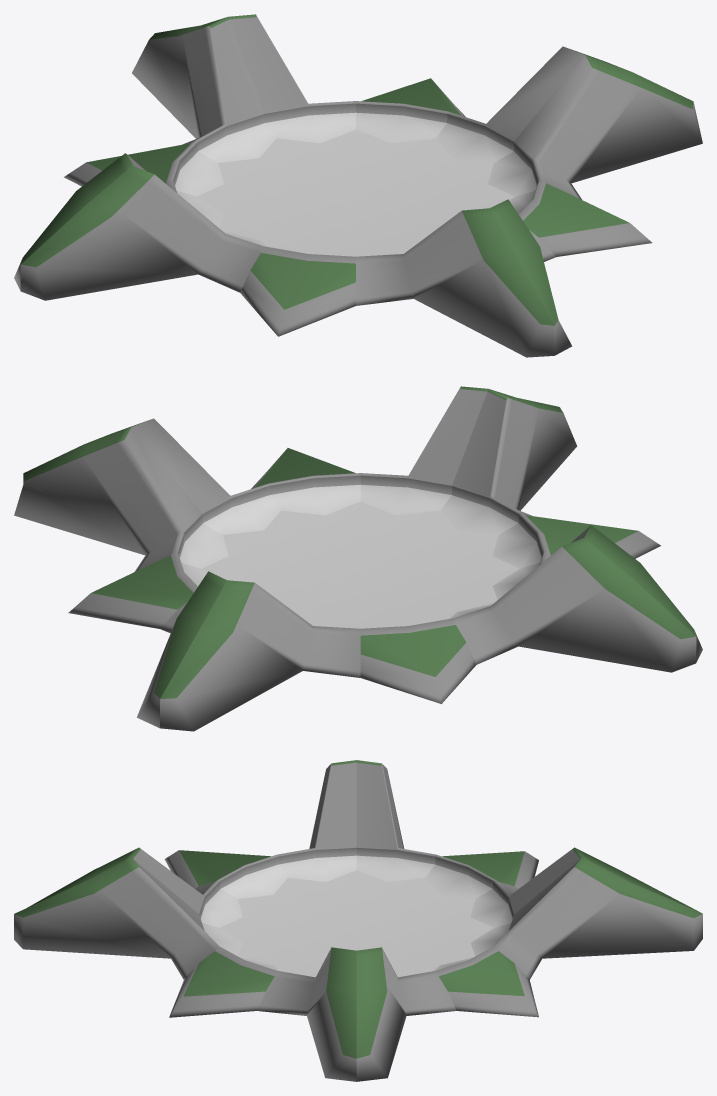
The model's file is MapPoint 1.fbx.
The picture shows the model from 3 angles, top to bottom: view 1: azimuth 30°, elevation 25°; view 2: azimuth 150°, elevation 25°; view 3: azimuth 270°, elevation 25°; orthographic projection. The views are drawn at different scales.
Parts seen in each view (by area): view 1: MapPoint_; view 2: MapPoint_; view 3: MapPoint_.
Boxes of the visible parts, box(x1,y1,x2,y2) form: MapPoint_: box(14, 14, 702, 357); MapPoint_: box(14, 386, 702, 731); MapPoint_: box(14, 760, 702, 1081).
Bounding box in the file's own units: 456 × 64.45 × 470.
